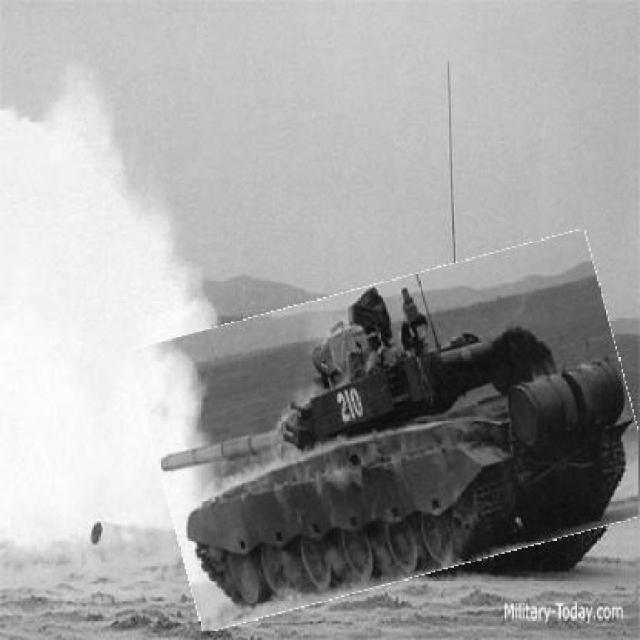Tank: (143, 258, 640, 607)
